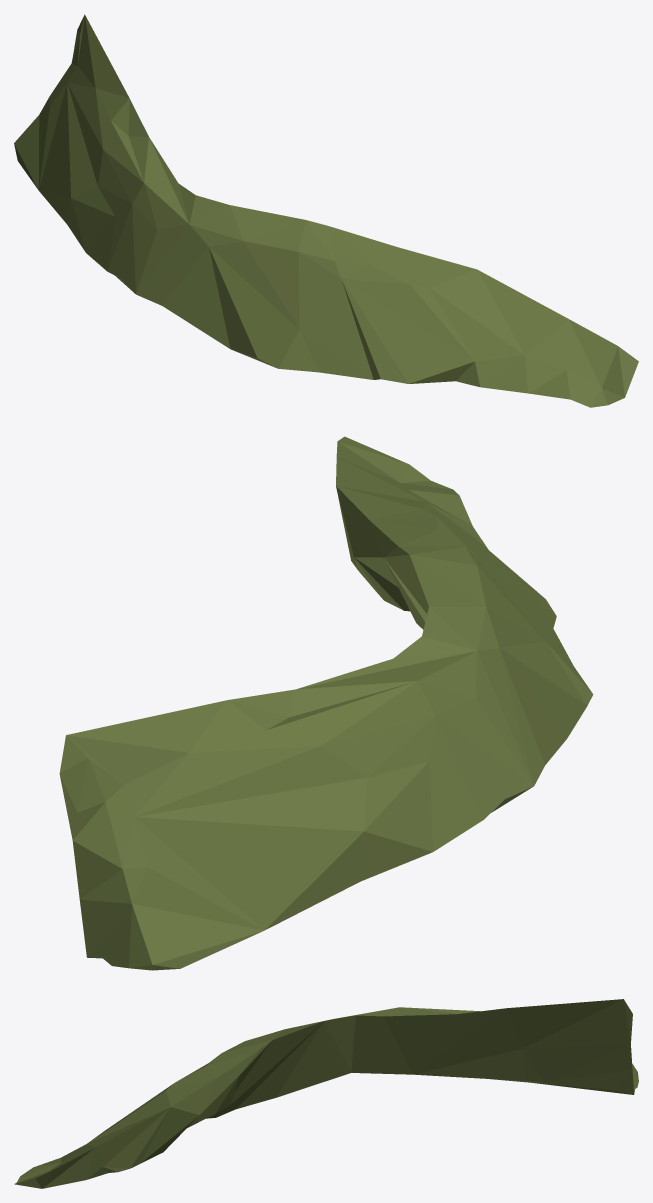
File: ground_35.fbx
The picture shows the model from 3 angles, top to bottom: view 1: azimuth 30°, elevation 25°; view 2: azimuth 150°, elevation 25°; view 3: azimuth 270°, elevation 25°; orthographic projection. The views are drawn at different scales.
Visible parts, largest first — view 1: ground_35; view 2: ground_35; view 3: ground_35.
Part boxes in pixels (<box>): ground_35: <box>14,14,638,407</box>; ground_35: <box>59,436,593,970</box>; ground_35: <box>14,999,638,1188</box>.
Bounding box in the file's own units: 3.82 × 1.81 × 8.24.
